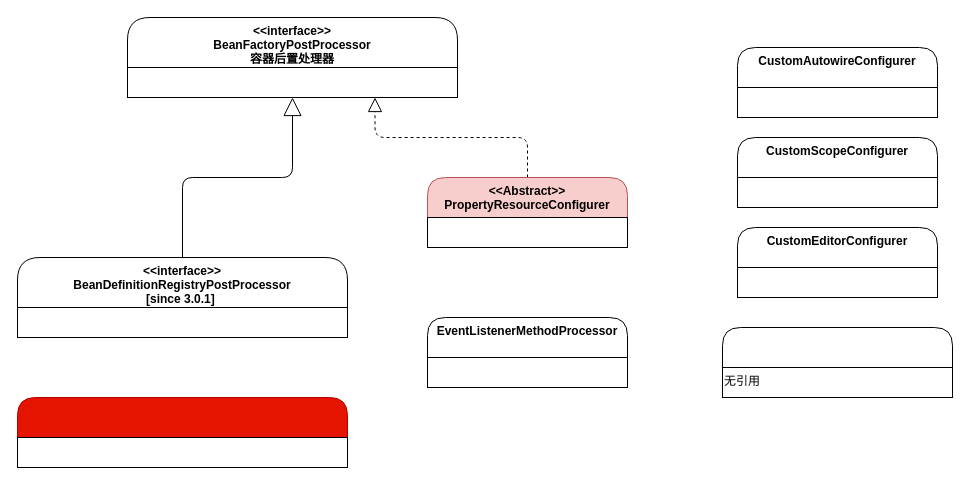
This 970x485 diagram has some shape labels left out. Here are the shapes that lost their labels. From the top down, the box of each, then its label:
(126, 66, 458, 98): postProcessBeanFactory(ConfigurableListableBeanFactory)
(16, 306, 348, 338): postProcessBeanDefinitionRegistry(BeanDefinitionRegistry)
(722, 326, 952, 398): [beans] DeprecatedBeanWarner 对标记为 Deprecated 的 Bean 打印警告
(16, 396, 348, 468): ConfigurationClassPostProcessor @Configuration、@Import.. 处理
